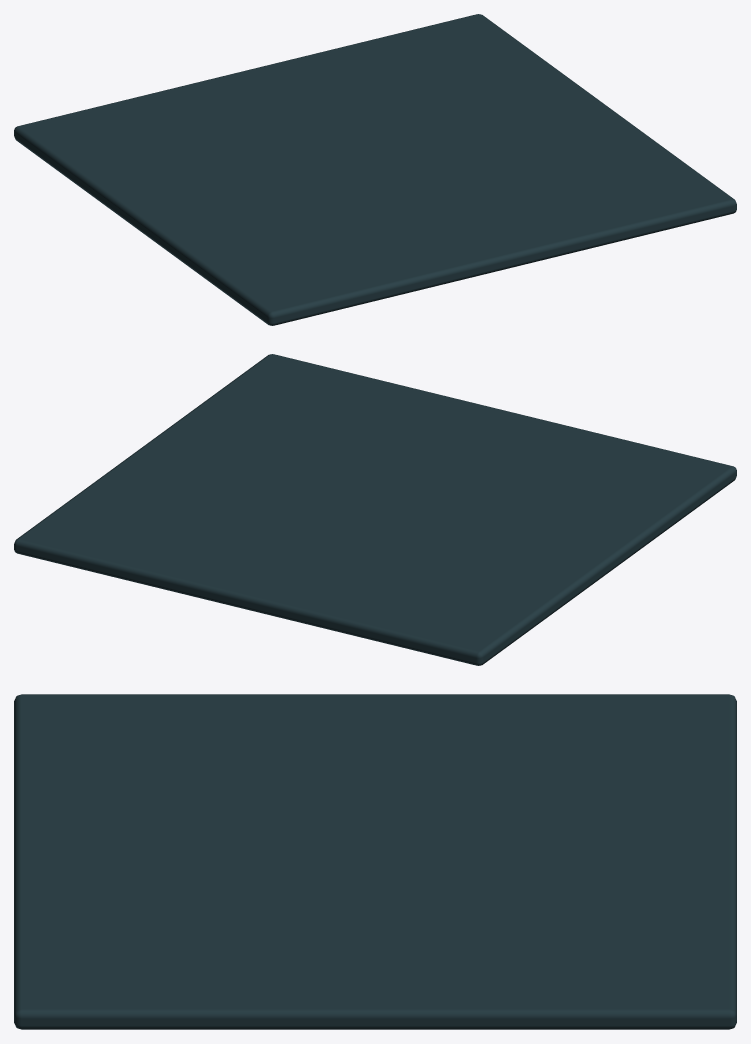
File: pan.glb
3 renders of one model, top to bottom at view 1: azimuth 30°, elevation 25°; view 2: azimuth 150°, elevation 25°; view 3: azimuth 270°, elevation 25°, orthographic. The views are drawn at different scales.
Parts seen in each view (by area): view 1: pan; view 2: pan; view 3: pan.
Part boxes in pixels (x1,y1,x2,y2): pan: [14, 14, 736, 325]; pan: [14, 354, 736, 665]; pan: [14, 694, 736, 1029].
Bounding box in the file's own units: 0.85 × 0.025 × 0.81.
